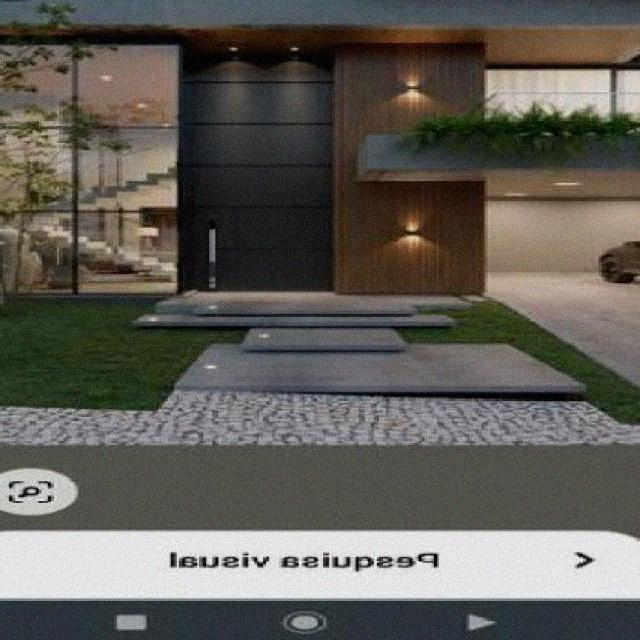stair: (163, 278, 594, 411)
